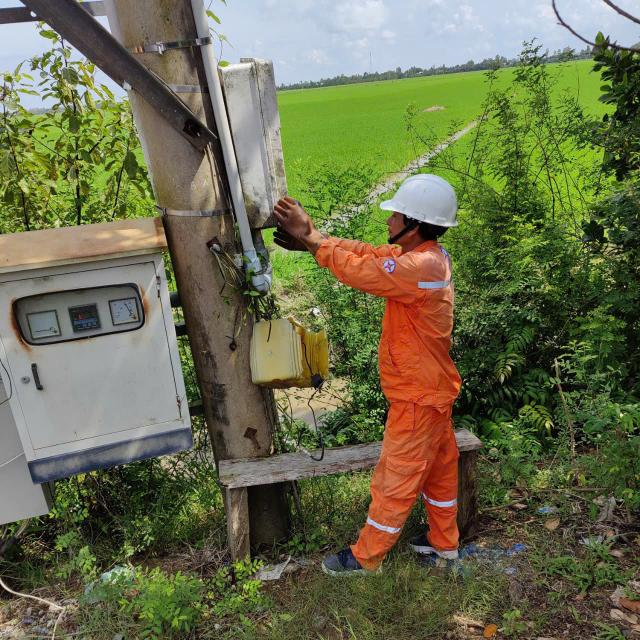gloves: (261, 188, 325, 255), (258, 211, 322, 261)
helmet: (363, 165, 486, 248)
shoes: (305, 536, 394, 585), (402, 521, 469, 569)
